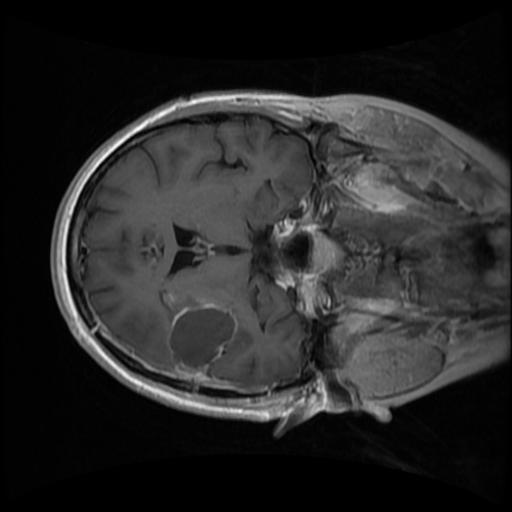glioma: (168, 304, 237, 377)
